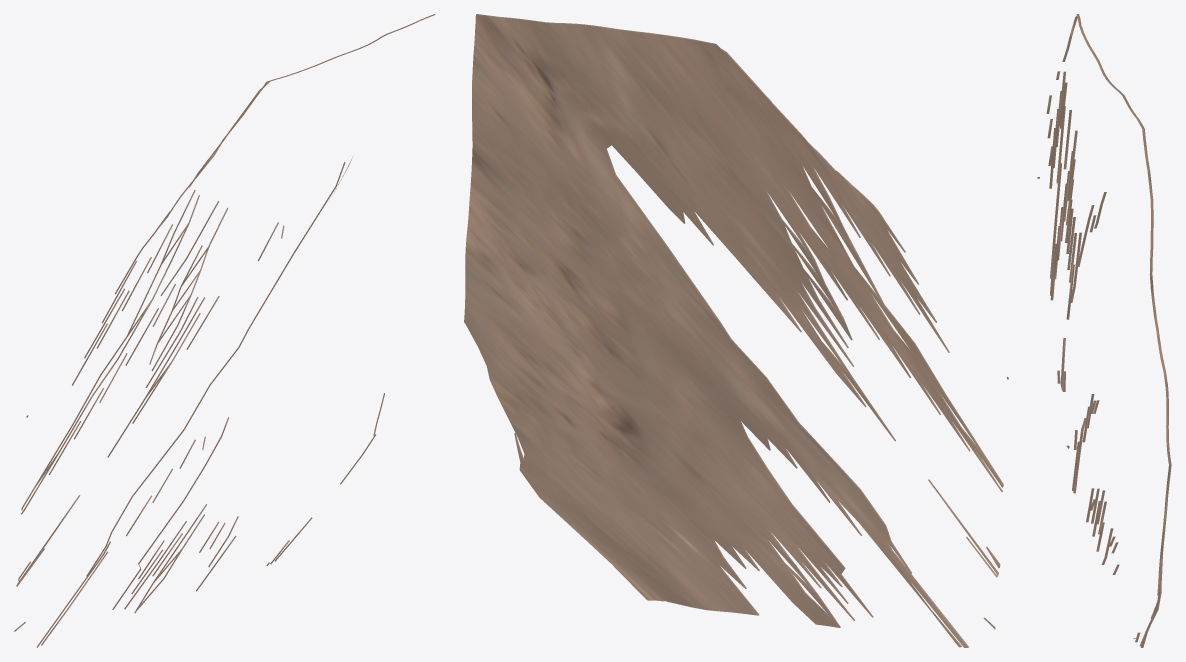
The picture shows the model from 3 angles, left to right: view 1: azimuth 30°, elevation 25°; view 2: azimuth 150°, elevation 25°; view 3: azimuth 270°, elevation 25°; orthographic projection. The views are drawn at different scales.
Bounding box in the file's own units: 15.59 × 16.71 × 3.32.
1 material, 1 textured.
